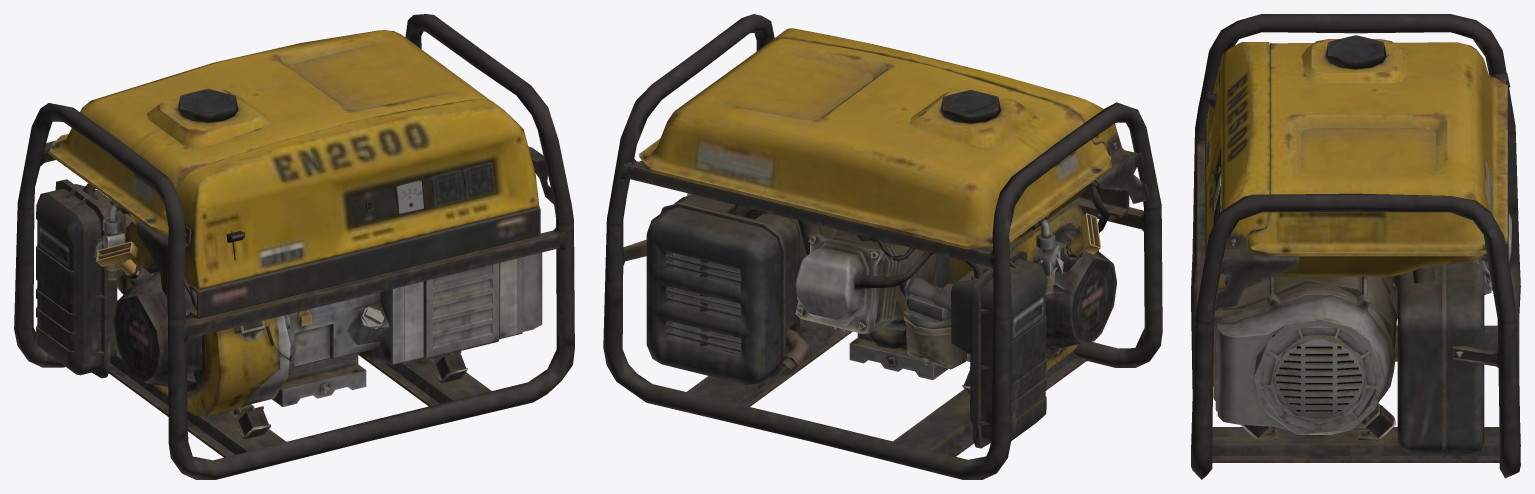
File: portable_generator.slim.glb
The picture shows the model from 3 angles, left to right: view 1: azimuth 30°, elevation 25°; view 2: azimuth 150°, elevation 25°; view 3: azimuth 270°, elevation 25°; orthographic projection.
Bounding box in the file's own units: 0.8183 × 0.5769 × 0.564.
Materials: 2 (2 with a texture image).
